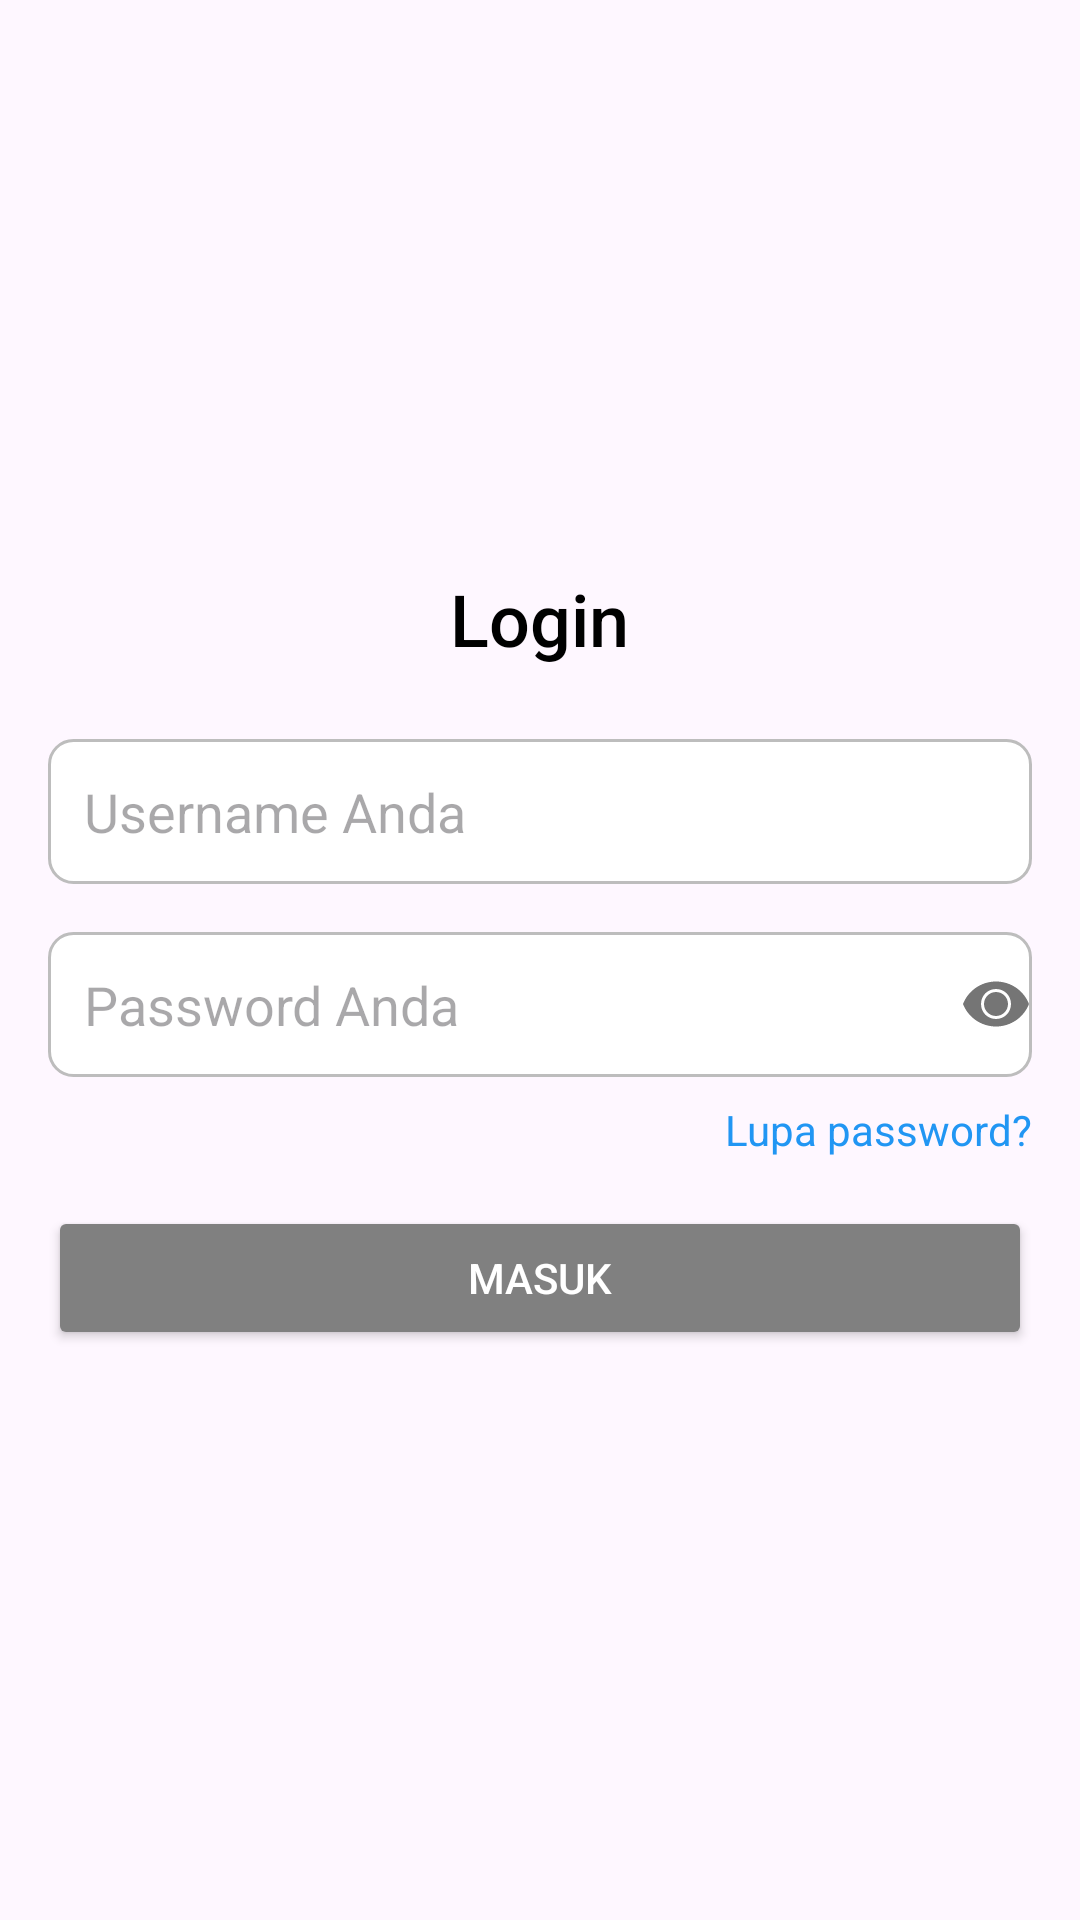

Icons on this 1080*1920 Android screen, each with the point to tap as (x=x, y=y):
Toggle Password Visibility: (x=997, y=1004)
